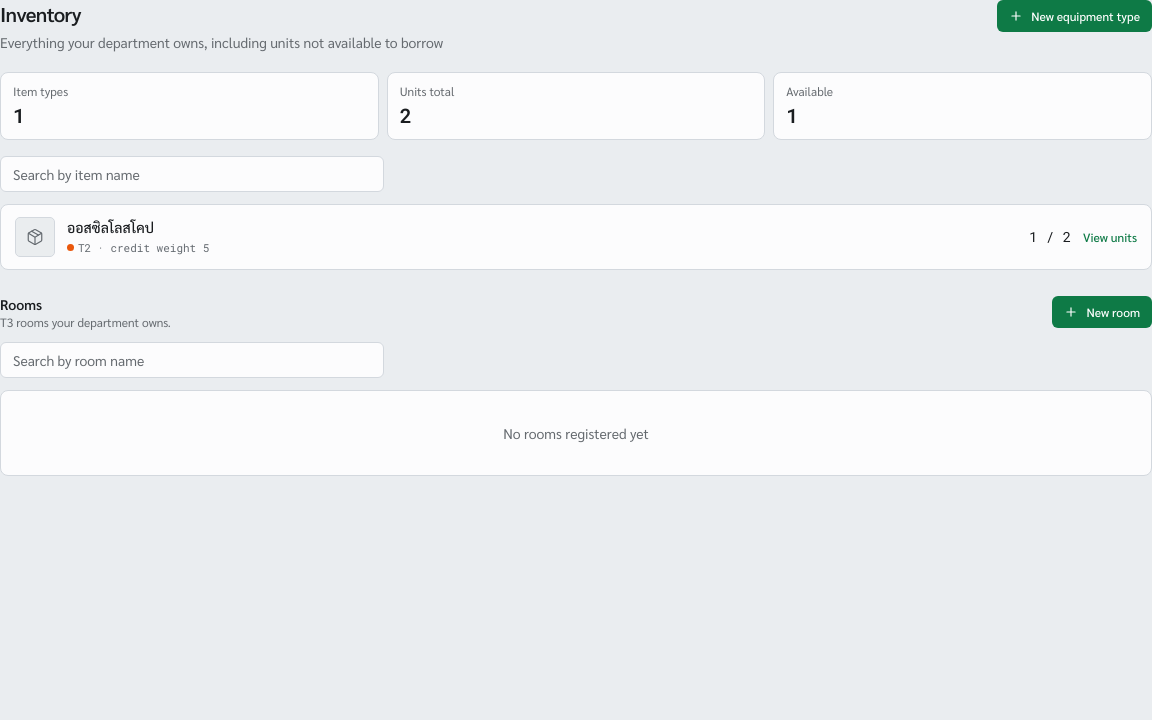
Test: Staff inventory: add units dialog › #231: takes the type's tier and does not let it change
The width and height of the screenshot is (1152, 720).
Click the button "ออสซิลโลสโคป T2 · credit weight 5 1 / 2 View units" at (35, 237), box [1, 205, 1151, 269]
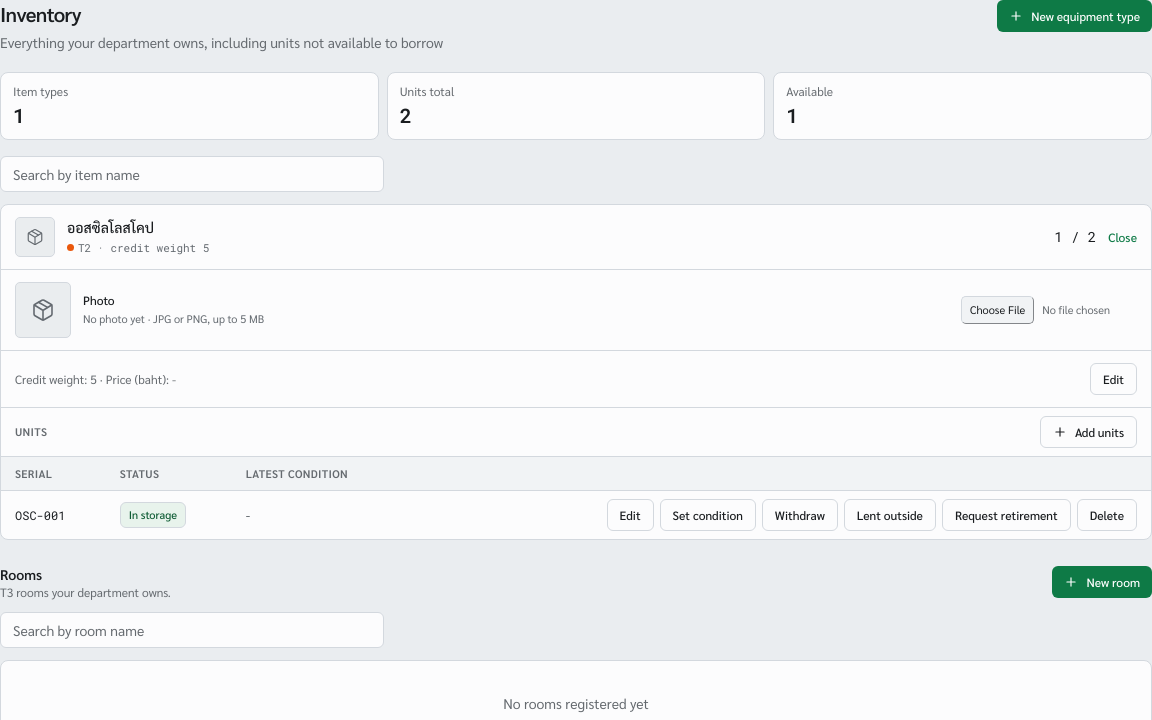
Click the button "Add units" at (1088, 432), box [1040, 416, 1137, 448]
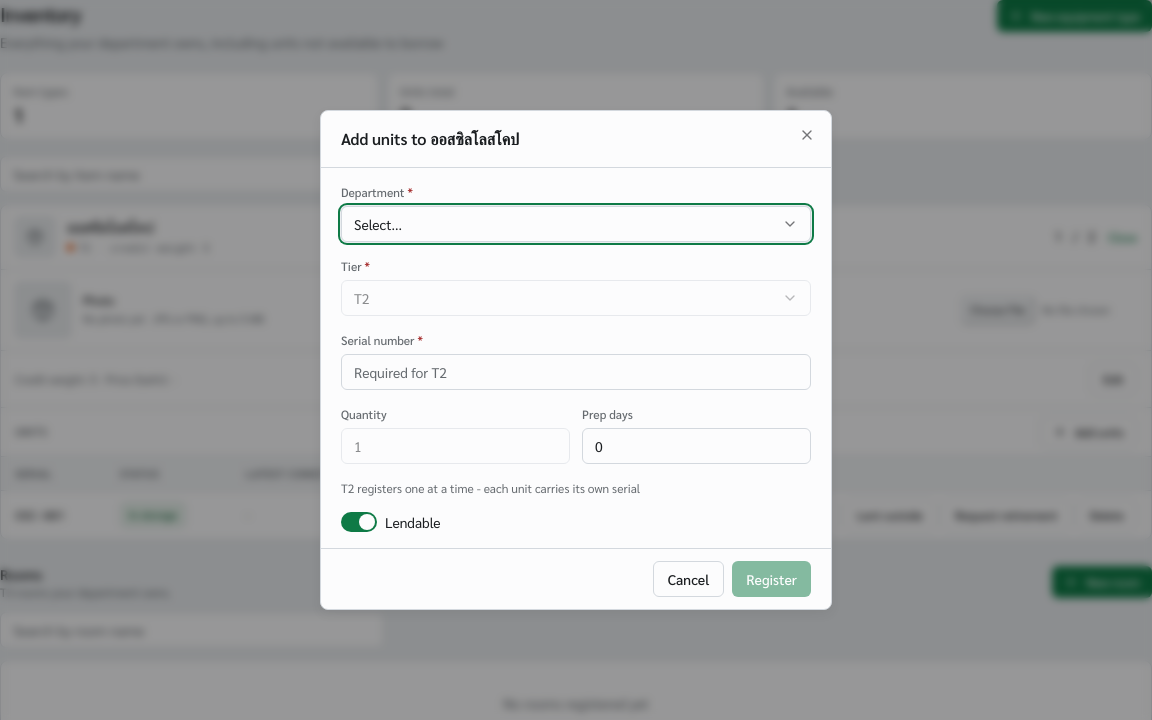
expect the dropdown labelled "T2" is disabled: met, box [341, 280, 811, 316]
expect the dropdown labelled "T2" is shown: met, box [341, 280, 811, 316]
